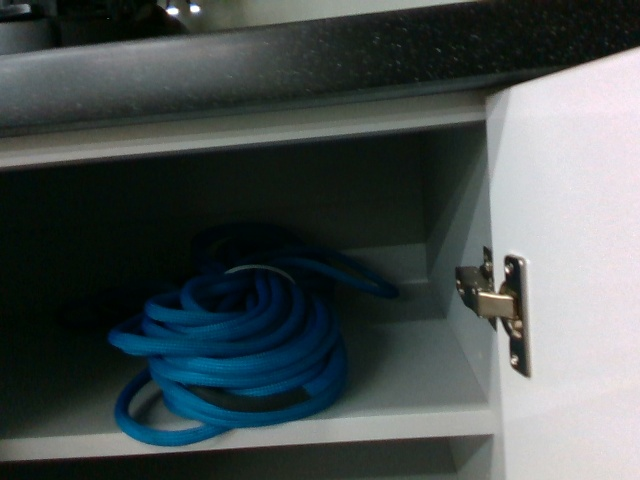rope: (131, 273, 343, 431)
